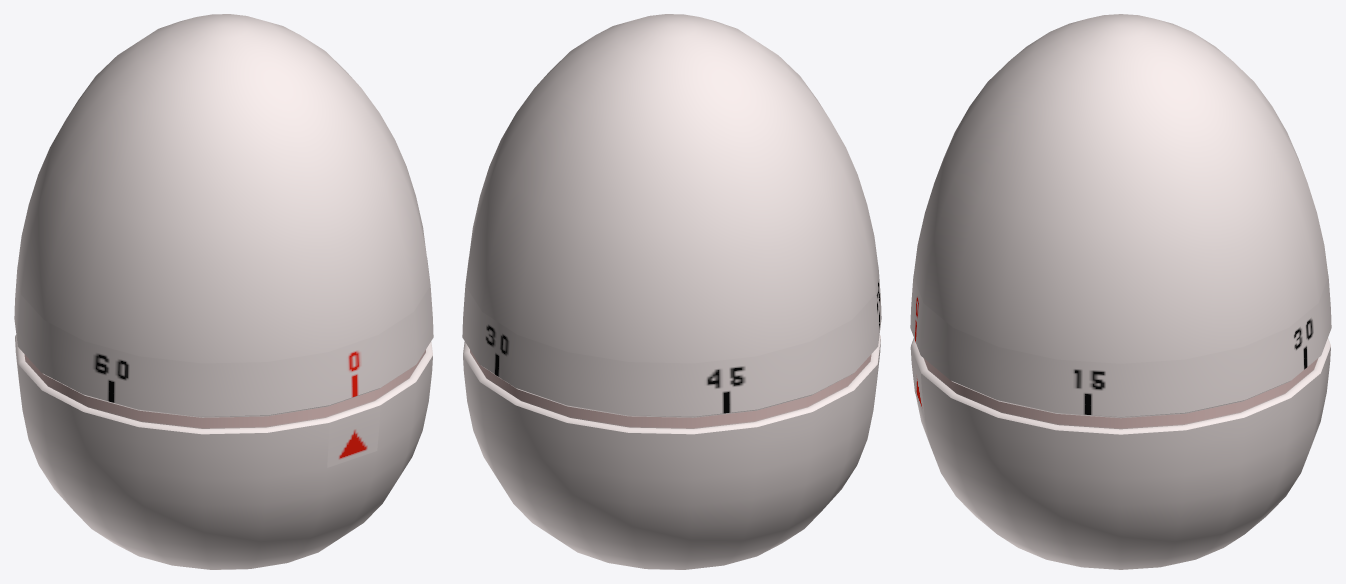
File: 3d_CookingTimer.fbx
The picture shows the model from 3 angles, left to right: view 1: azimuth 30°, elevation 25°; view 2: azimuth 150°, elevation 25°; view 3: azimuth 270°, elevation 25°; orthographic projection.
Parts seen in each view (by area): view 1: CookingTimerHead, 3d_CookingTimer; view 2: CookingTimerHead, 3d_CookingTimer; view 3: CookingTimerHead, 3d_CookingTimer.
Part boxes in pixels (x1=…): CookingTimerHead: x1=14, y1=14, x2=433, y2=417; 3d_CookingTimer: x1=15, y1=335, x2=432, y2=569; CookingTimerHead: x1=462, y1=14, x2=881, y2=417; 3d_CookingTimer: x1=463, y1=335, x2=880, y2=569; CookingTimerHead: x1=910, y1=14, x2=1331, y2=418; 3d_CookingTimer: x1=910, y1=338, x2=1330, y2=569.
Size of the model in its own units: 0.1001 by 0.1337 by 0.1001.
